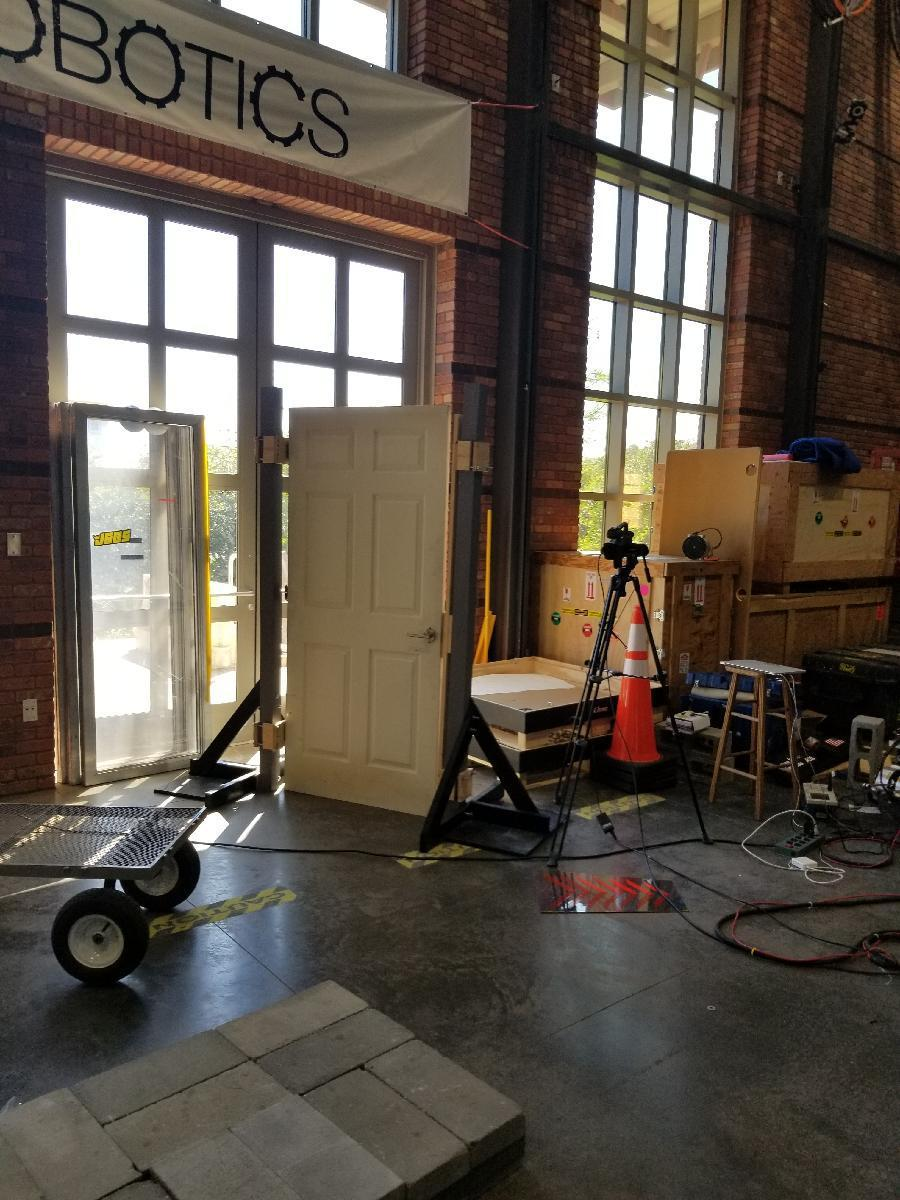door: (288, 406, 452, 821)
handle: (402, 623, 439, 647)
